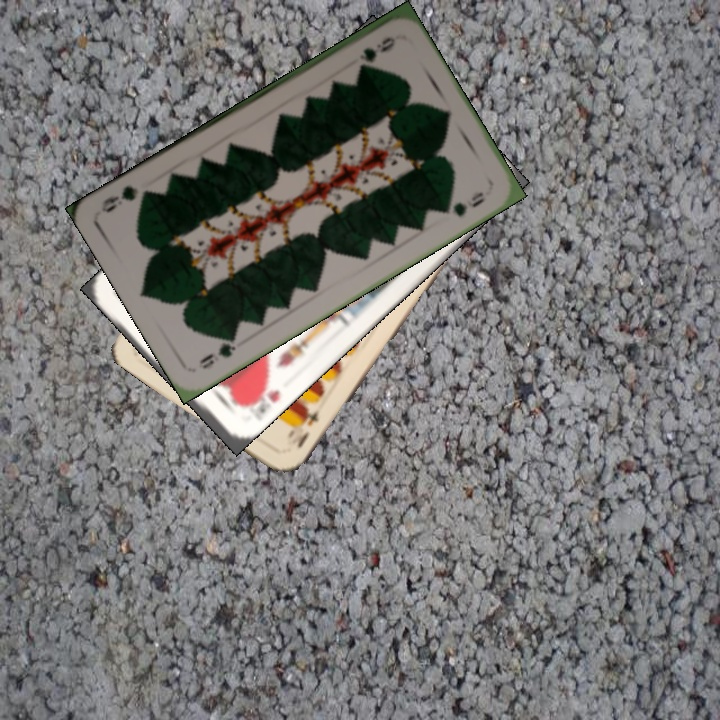E10: (283, 404, 322, 451)
G9: (195, 330, 240, 372), (355, 32, 398, 69)
HK: (238, 377, 282, 417)
